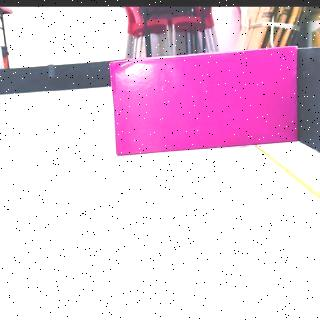xparking: (112, 60, 293, 148)
